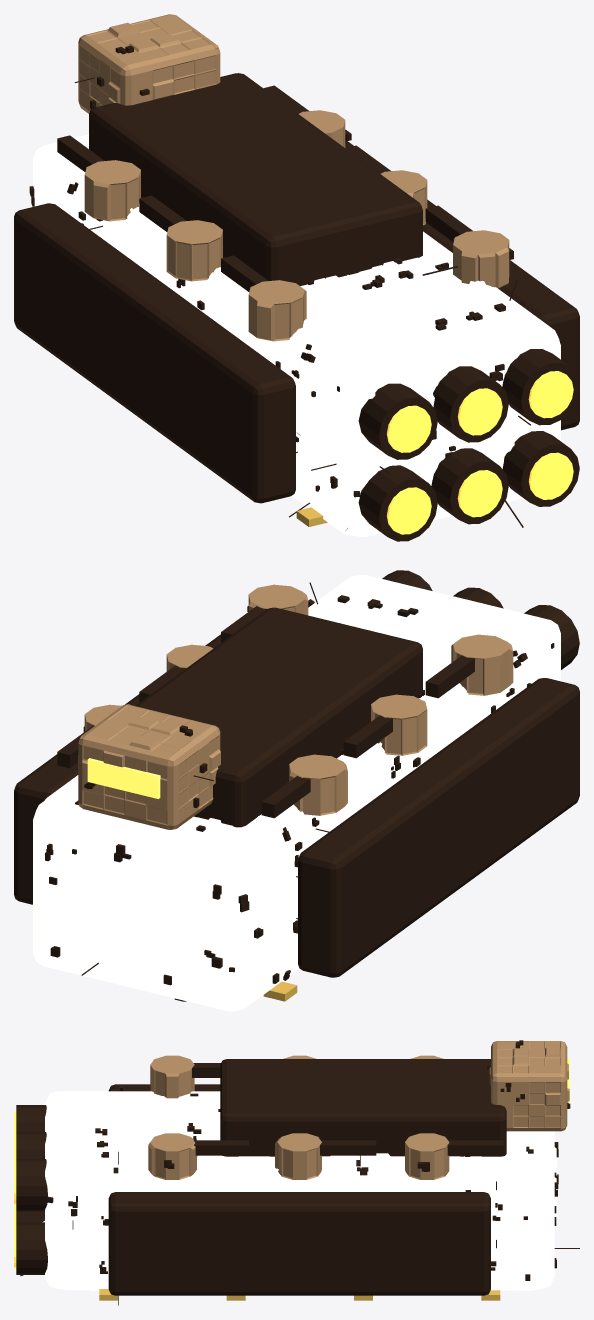
The model's file is gorrath_cruiser.glb.
3 views of the same model, one above another, from view 1: azimuth 30°, elevation 25°; view 2: azimuth 150°, elevation 25°; view 3: azimuth 270°, elevation 25° (orthographic). The views are drawn at different scales.
Visible parts, largest first — view 1: gorrath_cruiser; view 2: gorrath_cruiser; view 3: gorrath_cruiser.
Boxes of the visible parts, x1,y1,x2,y2 form: gorrath_cruiser: (14,14,579,541); gorrath_cruiser: (14,570,579,1011); gorrath_cruiser: (14,1040,579,1305).
Bounding box in the file's own units: 5.27 × 4.46 × 10.18.
